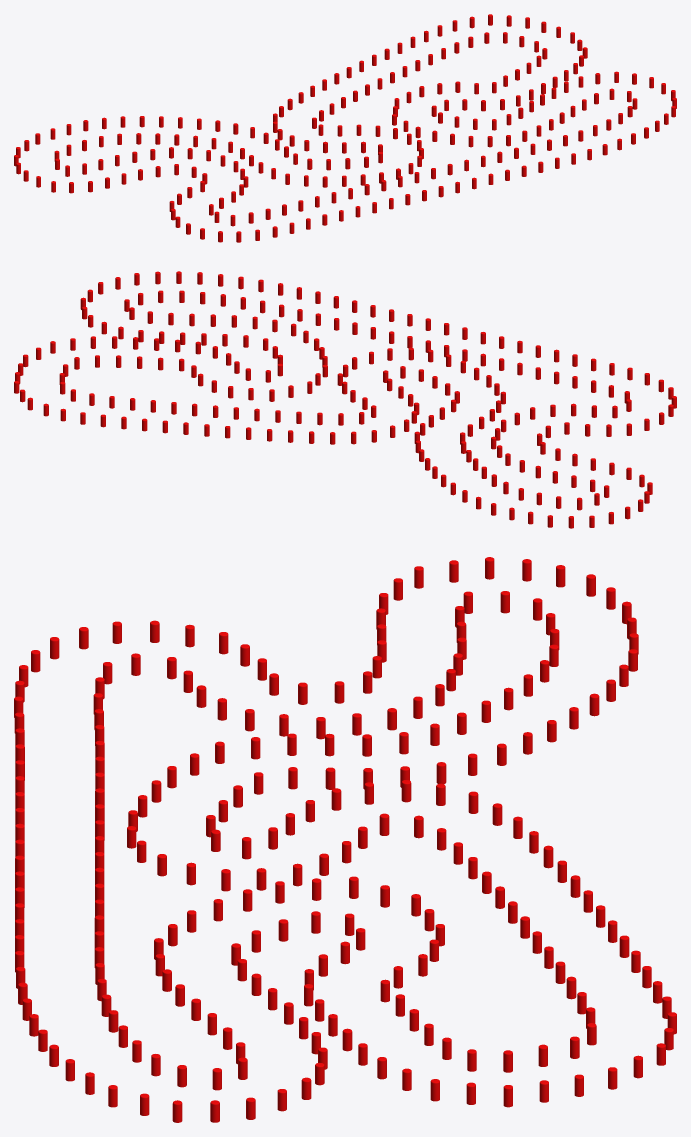
The model's file is TRACK.fbx.
3 renders of one model, top to bottom at view 1: azimuth 30°, elevation 25°; view 2: azimuth 150°, elevation 25°; view 3: azimuth 270°, elevation 25°, orthographic. The views are drawn at different scales.
Parts seen in each view (by area): view 1: Track; view 2: Track; view 3: Track.
Part boxes in pixels (box(x1,y1,x2,y2)): Track: box(14, 14, 676, 242); Track: box(14, 271, 676, 528); Track: box(14, 557, 676, 1122).
Size of the model in its own units: 681 by 1331 by 21.14.
